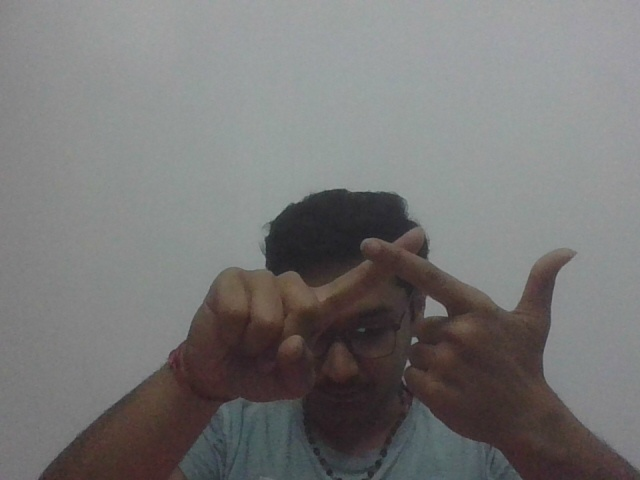J: (246, 225, 568, 360)
